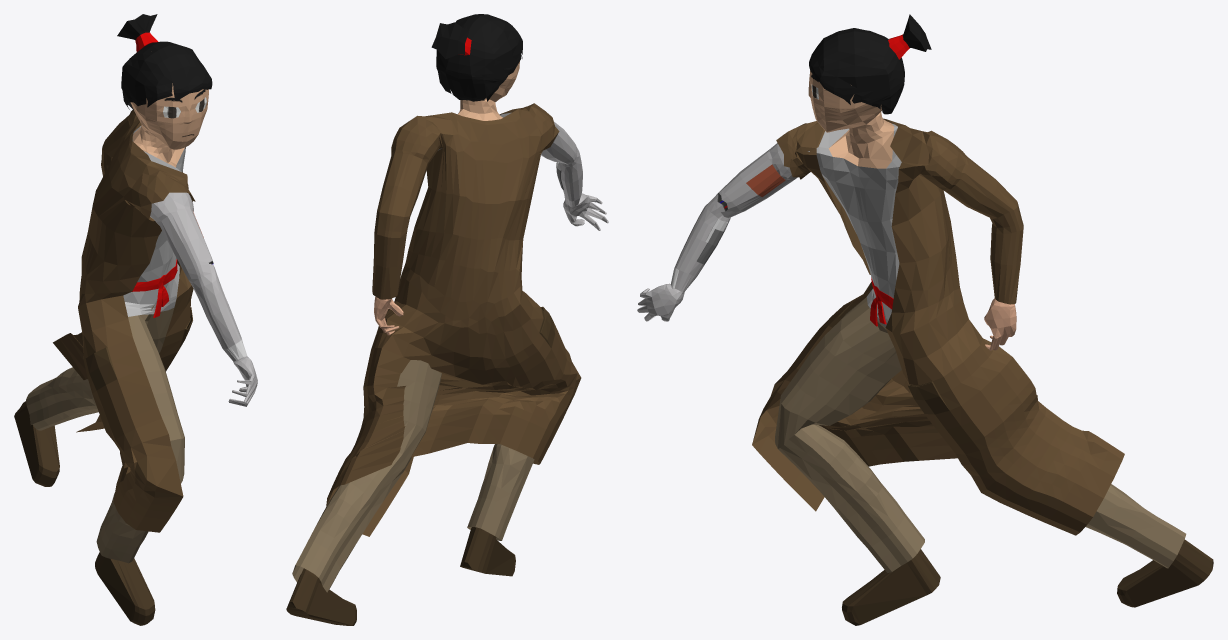
Rendered from OneAnimationTest_000004.obj.
3 views of the same model, side by side, from view 1: azimuth 30°, elevation 25°; view 2: azimuth 150°, elevation 25°; view 3: azimuth 270°, elevation 25° (orthographic). The views are drawn at different scales.
Visible parts, largest first — view 1: Jacket_Cube, Body_Cube.003, Hair_Cube.004; view 2: Jacket_Cube, Body_Cube.003, Hair_Cube.004; view 3: Jacket_Cube, Body_Cube.003, Hair_Cube.004.
Boxes of the visible parts, x1,y1,x2,y2 form: Jacket_Cube: (53, 110, 195, 532); Body_Cube.003: (14, 83, 257, 625); Hair_Cube.004: (117, 14, 212, 110); Jacket_Cube: (326, 103, 581, 536); Body_Cube.003: (286, 61, 608, 625); Hair_Cube.004: (431, 14, 522, 101); Jacket_Cube: (752, 118, 1124, 535); Body_Cube.003: (637, 71, 1213, 625); Hair_Cube.004: (809, 14, 931, 114).
Size of the model in its own units: 0.8767 by 3.63 by 3.07.
